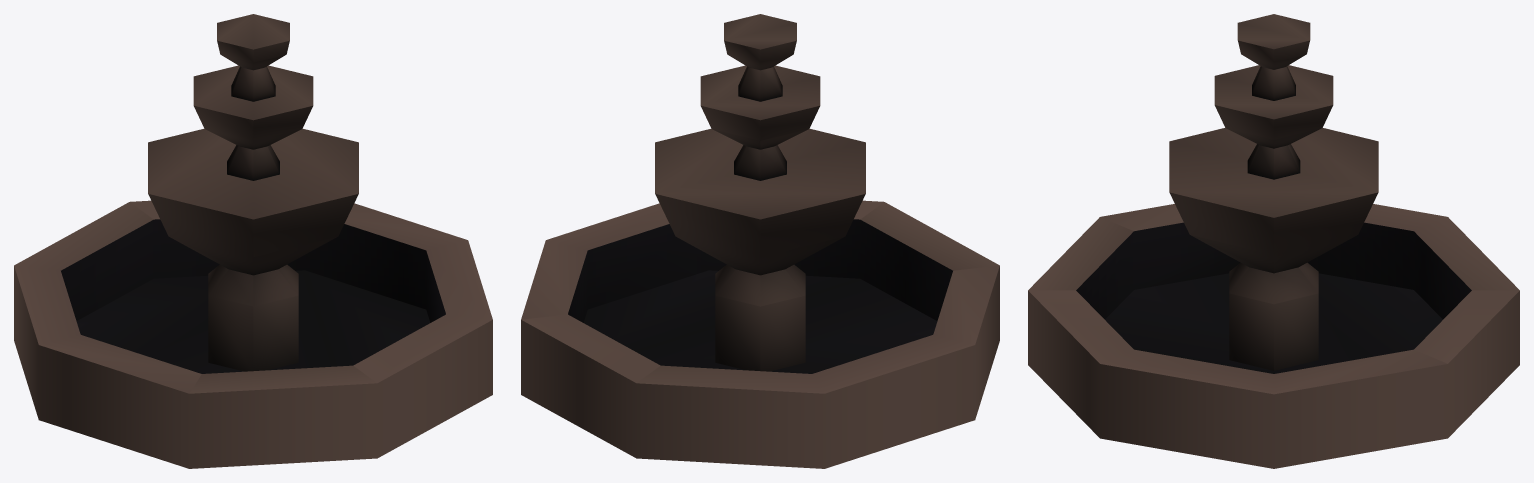
The model's file is fountain.fbx.
3 renders of one model, left to right at view 1: azimuth 30°, elevation 25°; view 2: azimuth 150°, elevation 25°; view 3: azimuth 270°, elevation 25°, orthographic.
Parts seen in each view (by area): view 1: fountain; view 2: fountain; view 3: fountain.
Boxes of the visible parts, <box> form: fountain: <box>14,14,492,468</box>; fountain: <box>521,14,999,468</box>; fountain: <box>1028,14,1519,468</box>.
Bounding box in the file's own units: 227 × 170 × 227.
